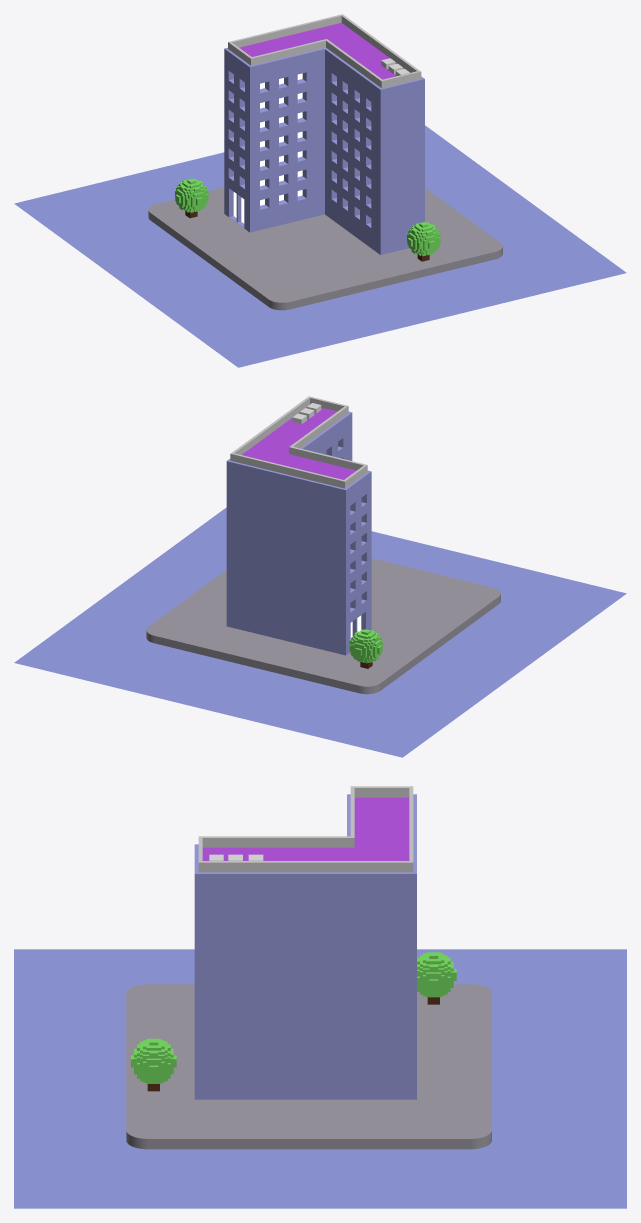
File: building.glb
3 views of the same model, one above another, from view 1: azimuth 30°, elevation 25°; view 2: azimuth 150°, elevation 25°; view 3: azimuth 270°, elevation 25° (orthographic). The views are drawn at different scales.
Parts seen in each view (by area): view 1: 平面.001, 立方体, 平面, 球.001, 球; view 2: 平面.001, 立方体, 平面, 球; view 3: 平面.001, 立方体, 平面, 球.001, 球.
Boxes of the visible parts, x1,y1,x2,y2 form: 平面.001: (14, 125, 626, 367); 立方体: (224, 14, 424, 254); 平面: (148, 187, 502, 310); 球.001: (407, 222, 440, 256); 球: (175, 178, 208, 212); 平面.001: (14, 507, 626, 757); 立方体: (226, 396, 371, 655); 平面: (146, 558, 500, 694); 球: (349, 629, 382, 663); 平面.001: (14, 949, 626, 1208); 立方体: (194, 786, 416, 1099); 平面: (126, 984, 491, 1149); 球.001: (131, 1038, 176, 1083); 球: (417, 952, 456, 997).
Size of the model in its own units: 17.47 by 7.97 by 17.47.
